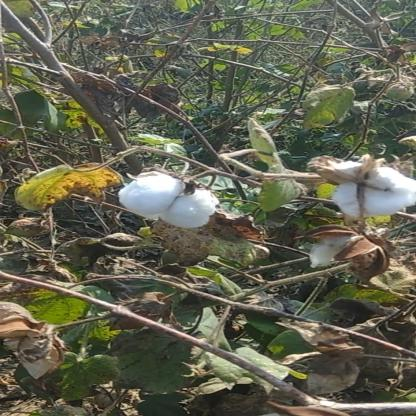cotton_ready: (102, 168, 234, 234), (314, 158, 416, 226)
